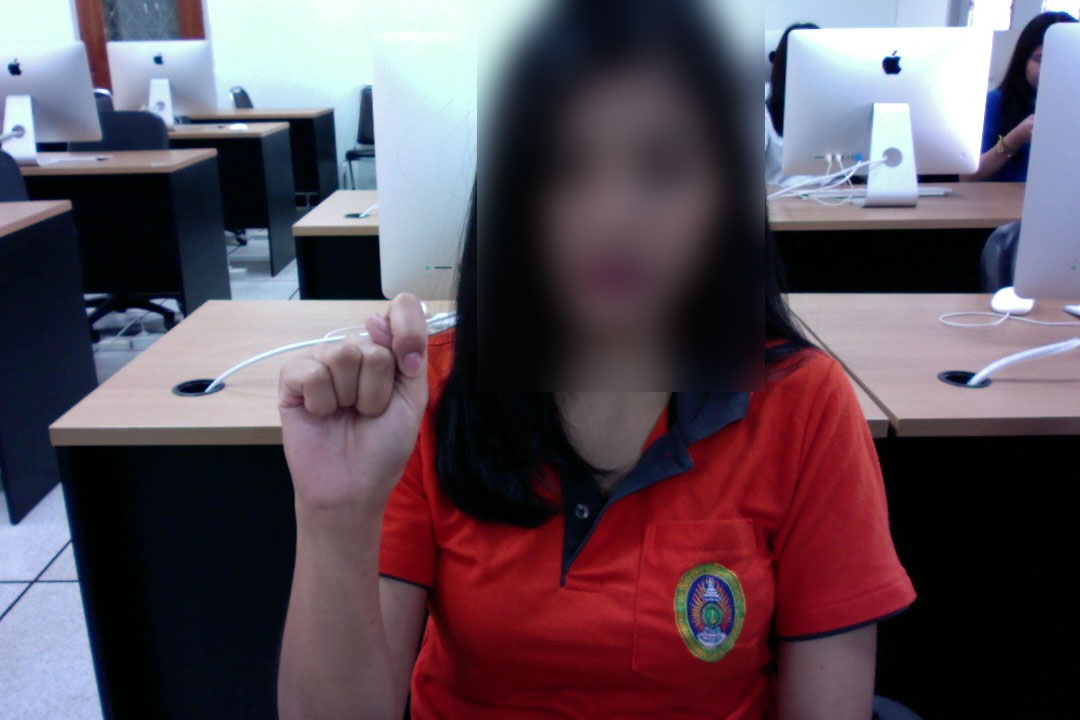tor: (270, 289, 431, 530)
